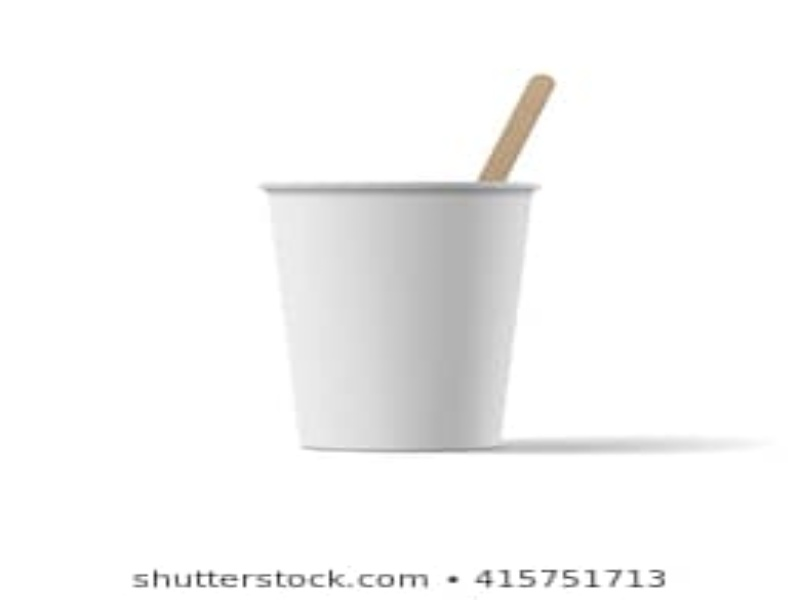plastic-cup: (268, 179, 548, 454)
